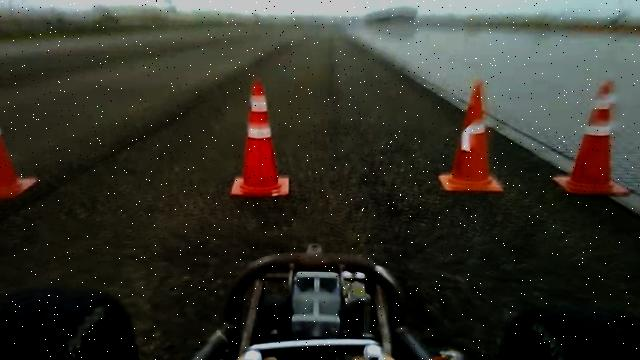red cone: (552, 79, 631, 197), (438, 79, 505, 193), (230, 79, 290, 198), (0, 108, 39, 200)
